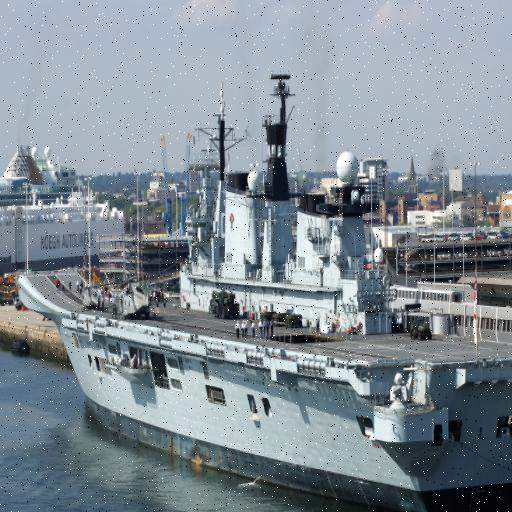Portanaves: (12, 52, 512, 512)
